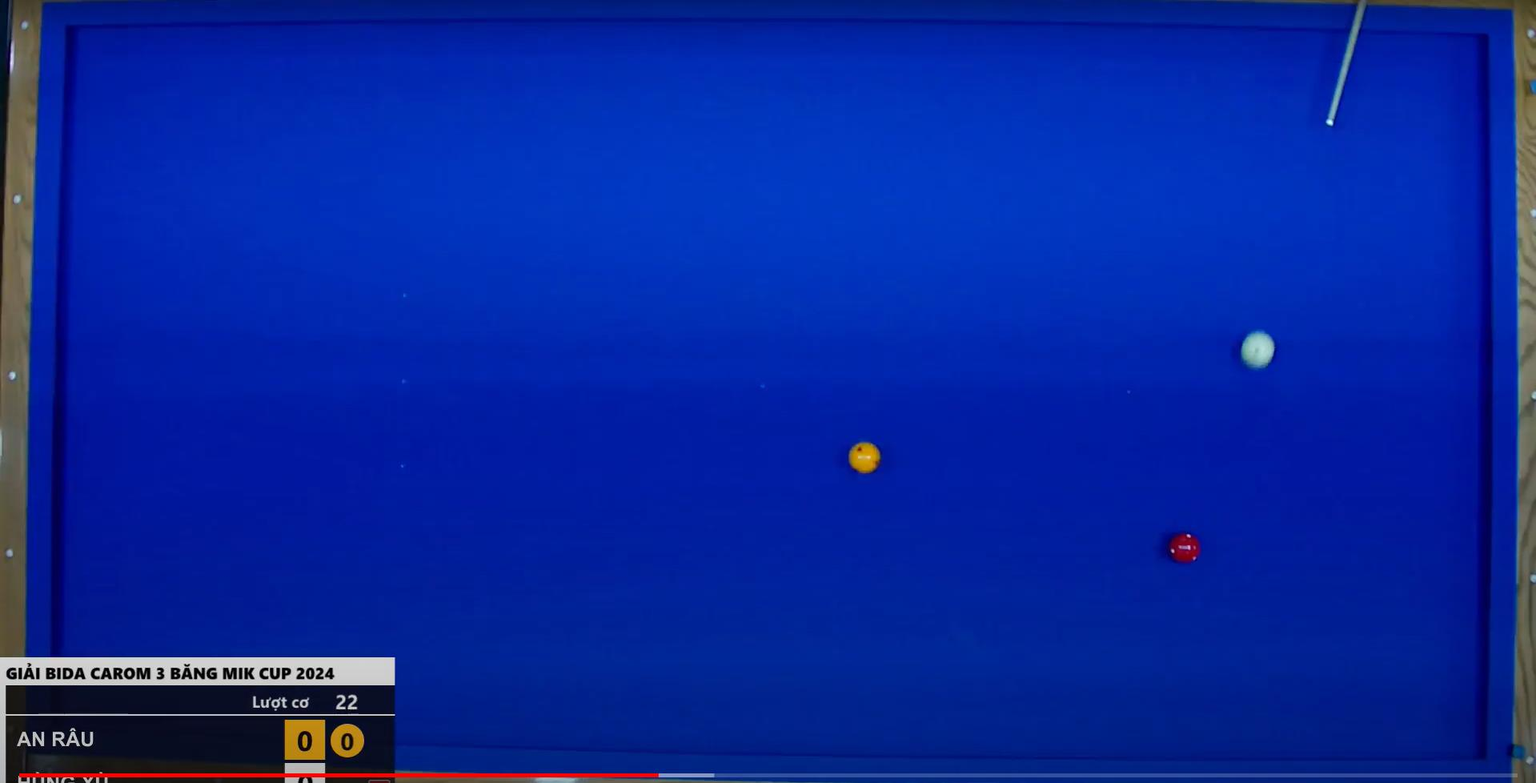red ball: (1154, 521, 1210, 576)
white ball: (1235, 325, 1281, 377)
yellow ball: (841, 435, 891, 481)
